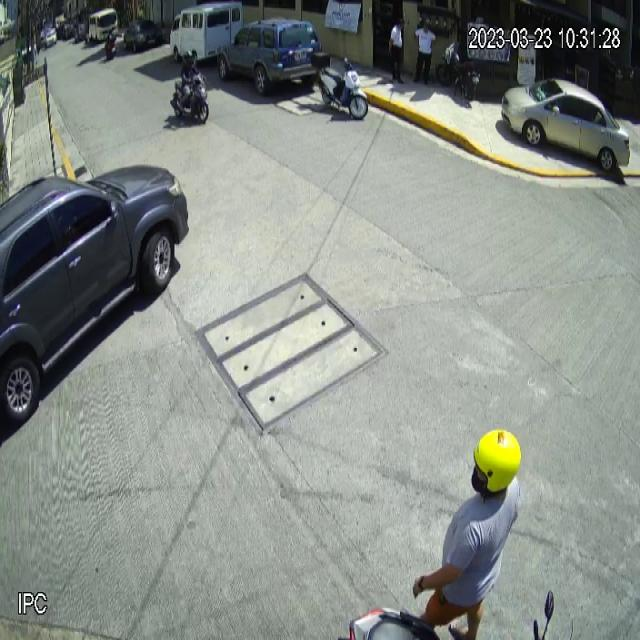Car: (0, 164, 190, 422), (500, 76, 630, 172), (216, 14, 322, 95)
Motorcycle: (311, 52, 369, 122), (169, 71, 210, 126)
Van: (169, 0, 244, 66)
